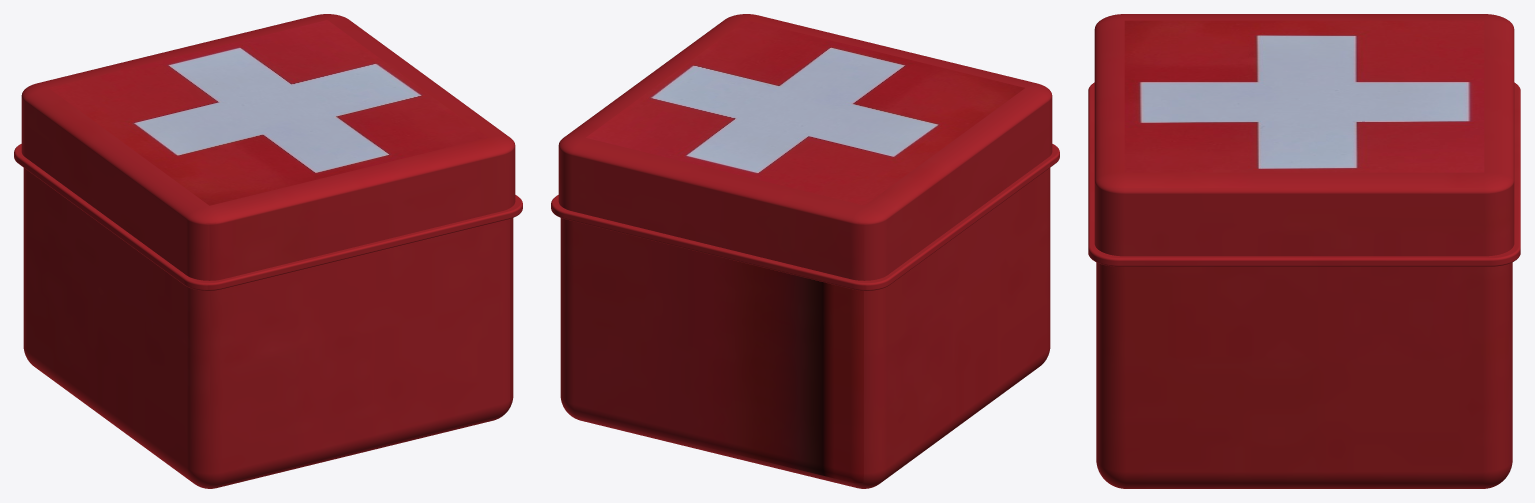
Rendered from Addkit.fbx.
The picture shows the model from 3 angles, left to right: view 1: azimuth 30°, elevation 25°; view 2: azimuth 150°, elevation 25°; view 3: azimuth 270°, elevation 25°; orthographic projection. The views are drawn at different scales.
Parts seen in each view (by area): view 1: pCube349; view 2: pCube349; view 3: pCube349.
Boxes of the visible parts, box(x1,y1,x2,y2) form: pCube349: box(14, 14, 522, 488); pCube349: box(551, 14, 1059, 488); pCube349: box(1088, 14, 1520, 488).
Bounding box in the file's own units: 10.92 × 8.75 × 10.92.
Materials: 1 (1 with a texture image).
